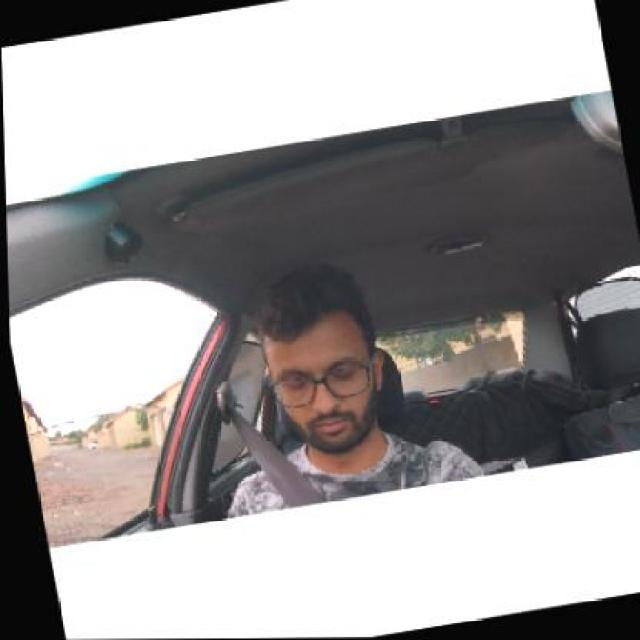drowsy: (255, 272, 382, 454)
